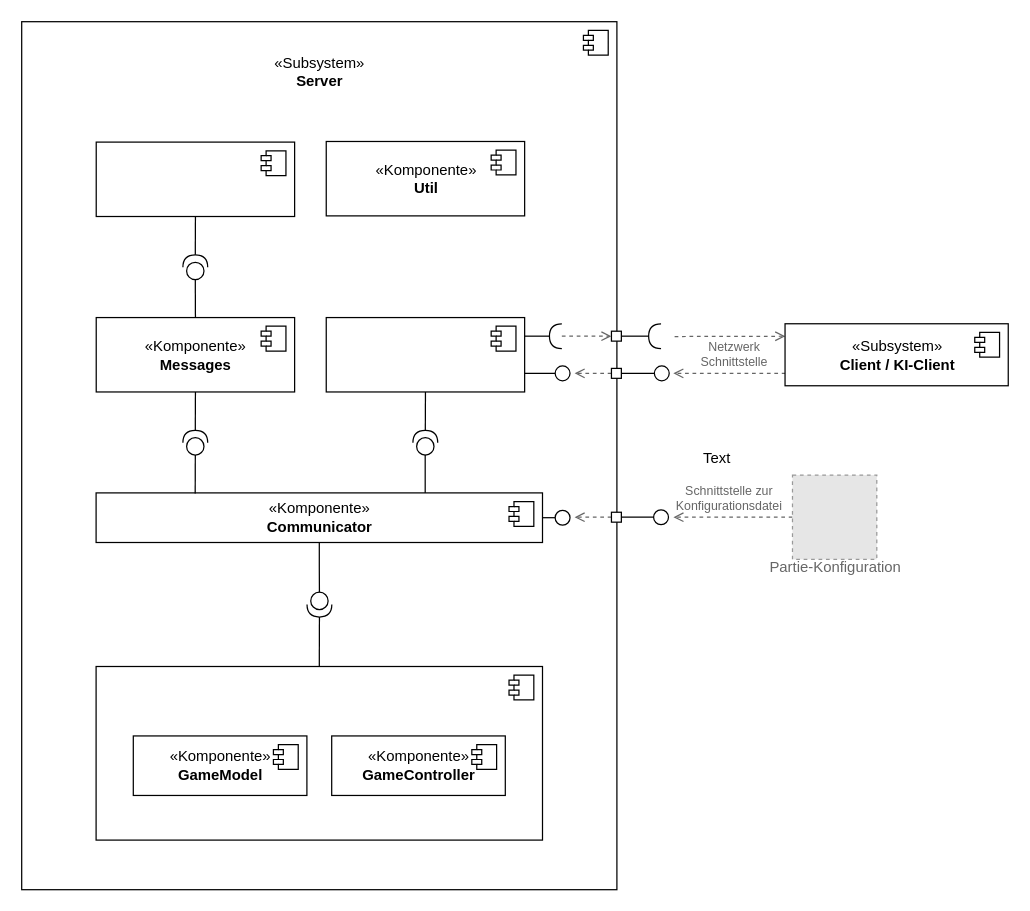
Image size: 1030x911. Some labels were removed from this diagram. Grey dashed boxes stand in for pictures. Here are the shapes that lost their labels. From the top down, the box of each, then its label:
(95, 141, 295, 217): «Komponente» JSON-Parser
(325, 316, 525, 392): «Komponente» Network
(95, 665, 542, 840): «Komponente» GameLogic
